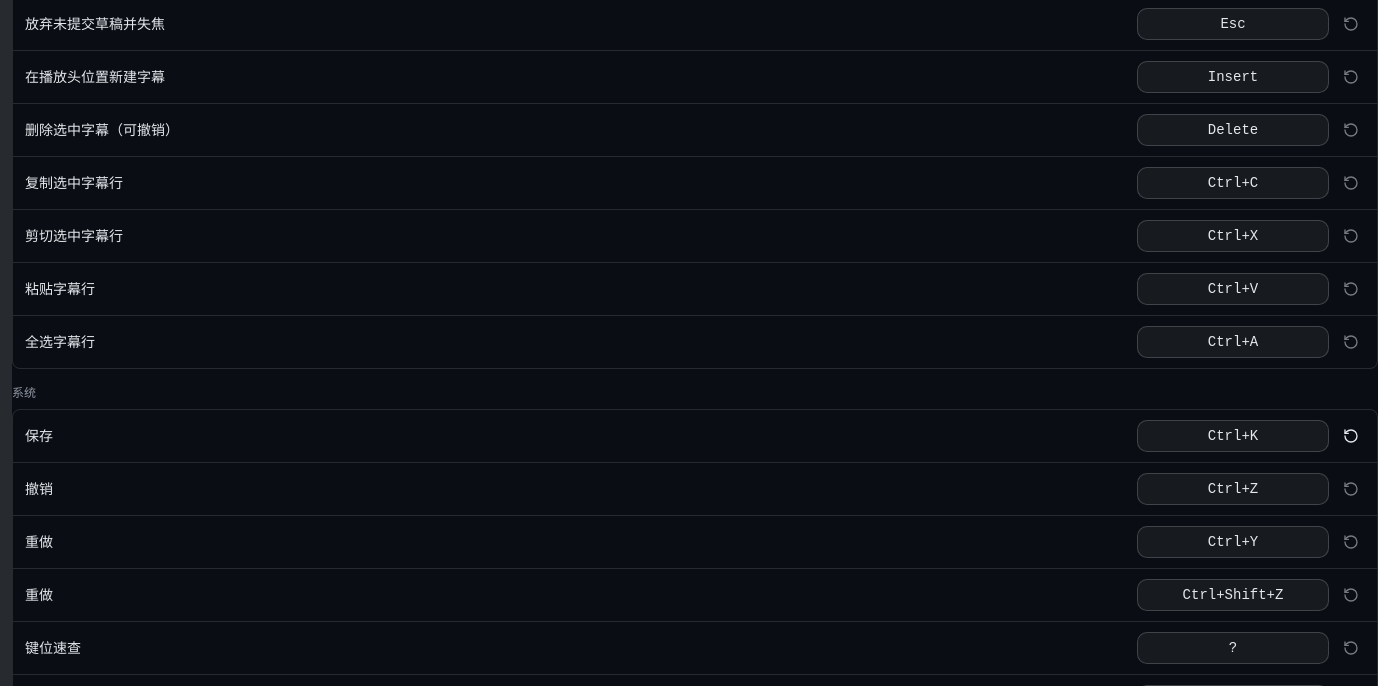
Test: SettingsShortcutsPanel › restores only one shortcut and clears only that row's recording error
(page scrolled)
Press z in the field named "保存 快捷键", box [1137,420,1329,452]
(page scrolled)
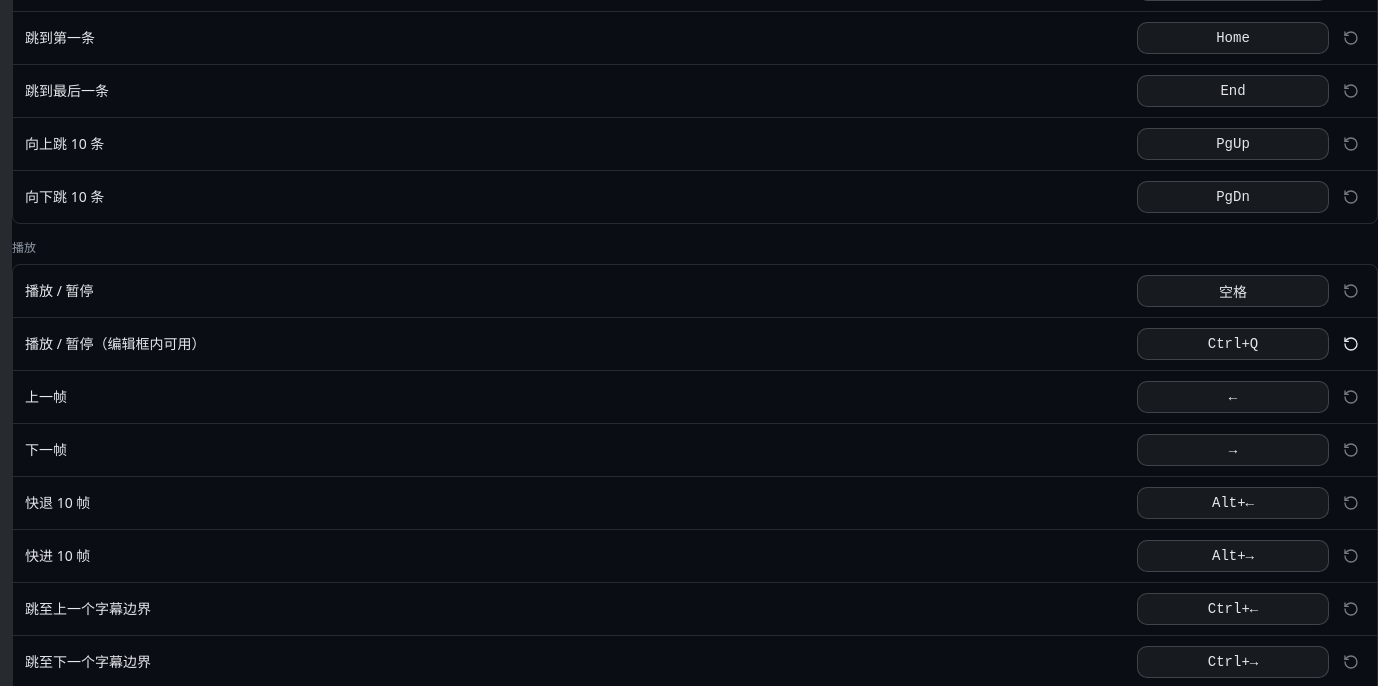
Click the button named "恢复播放 / 暂停（编辑框内可用）默认快捷键" at (1351, 344), box [1337,330,1365,358]
(page scrolled)
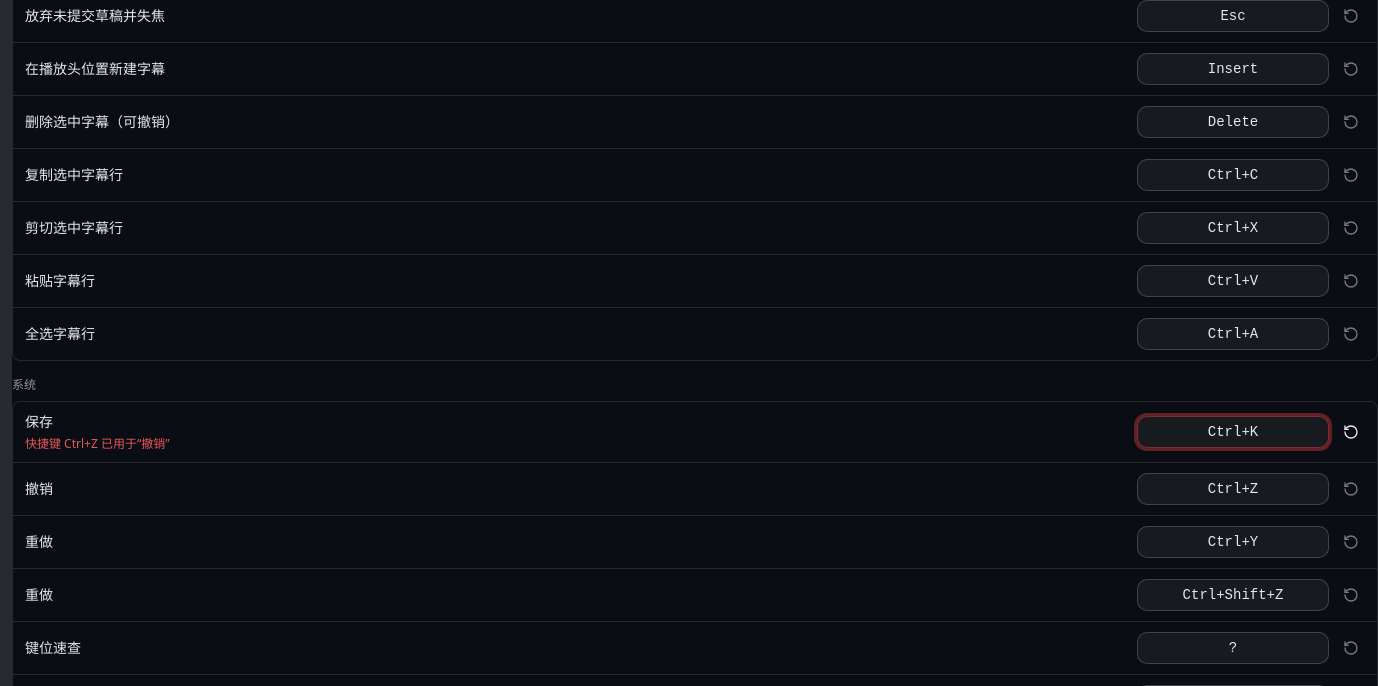
Expected: the field named "保存 快捷键" holds "Ctrl+K", [1137,416,1329,448]
Result: the message shows "Ctrl+Z" at [25,435,170,452]
Click the button named "恢复保存默认快捷键" at (1351, 432), box [1337,418,1365,446]
(page scrolled)
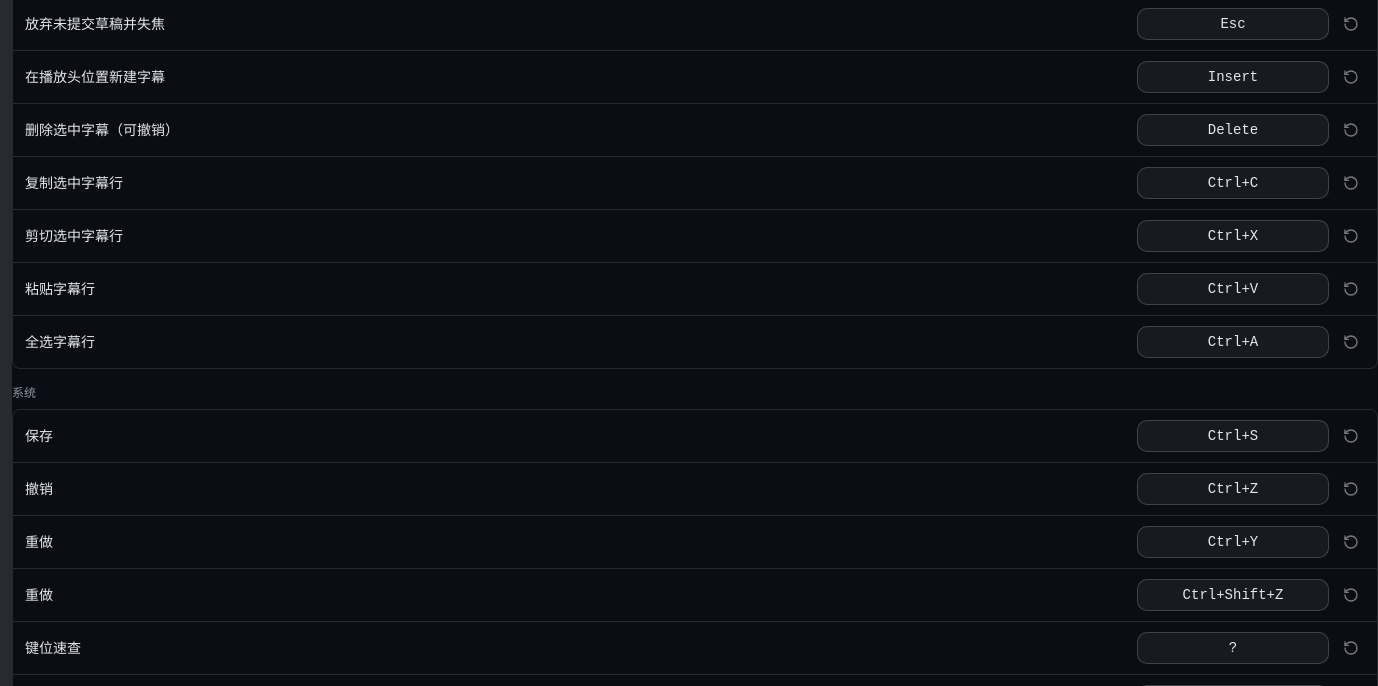
Result: the field named "保存 快捷键" holds "Ctrl+S" at [1137,420,1329,452]
Result: the message "快捷键 Ctrl+Z 已用于“撤销”" is gone
